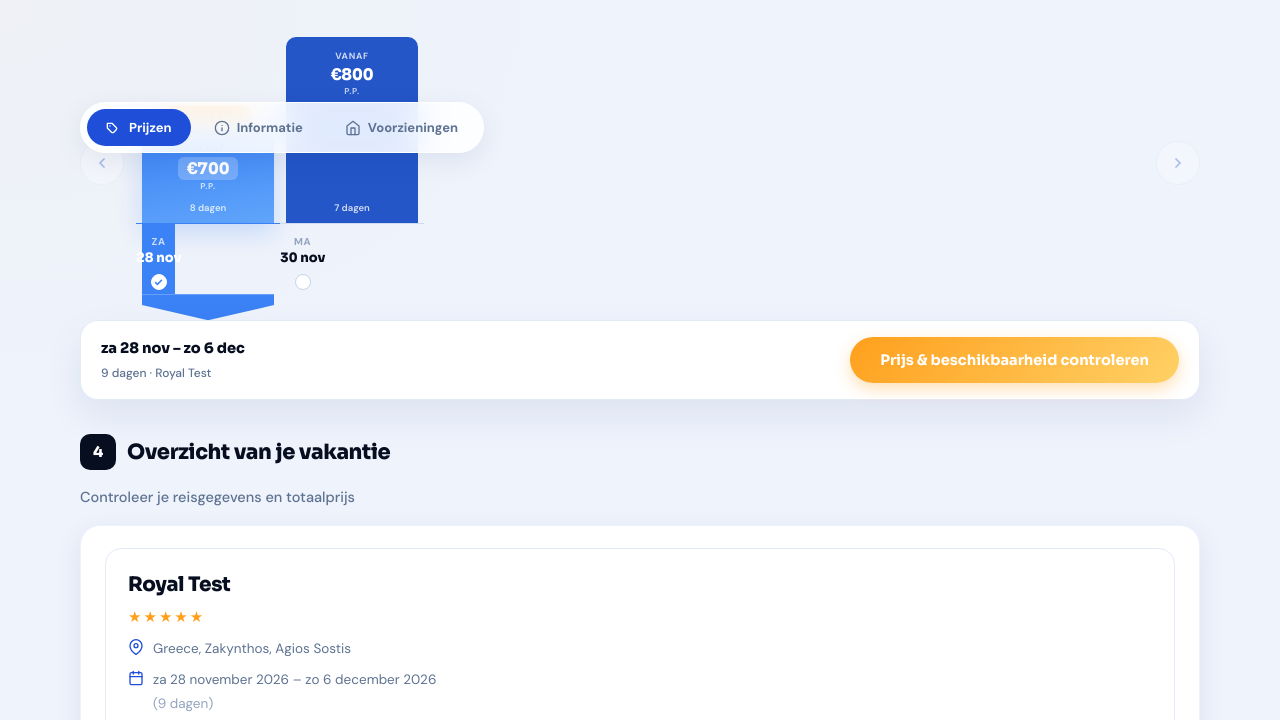
Test case: the live check asks about the package the card priced › the search failed but the confirm found the flight: still a package to book
(page scrolled)
Expected: the button "Laagste prijs vanaf €700 p.p. 8 dagen za 28 nov" is shown, [136, 12, 280, 320]
Click the button "Prijs & beschikbaarheid controleren" at (1015, 360), box [850, 337, 1179, 383]
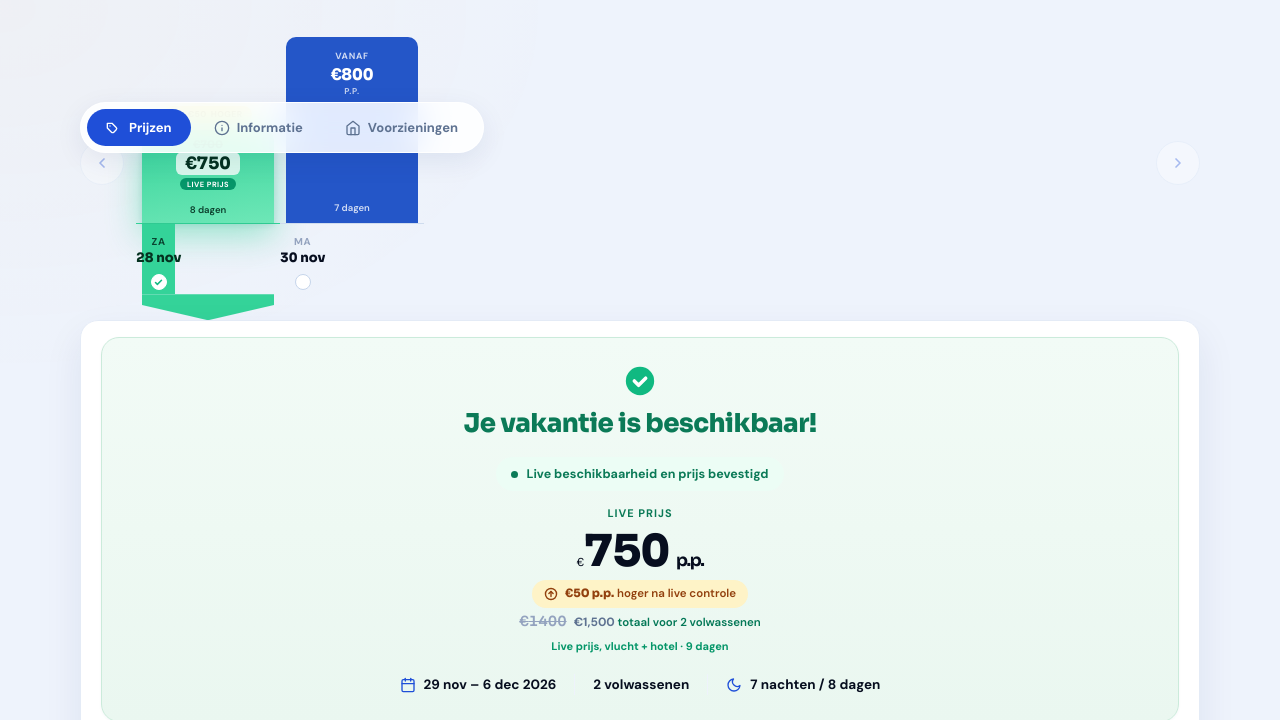
Expected: the text "€1,500" is shown, [574, 614, 615, 630]
